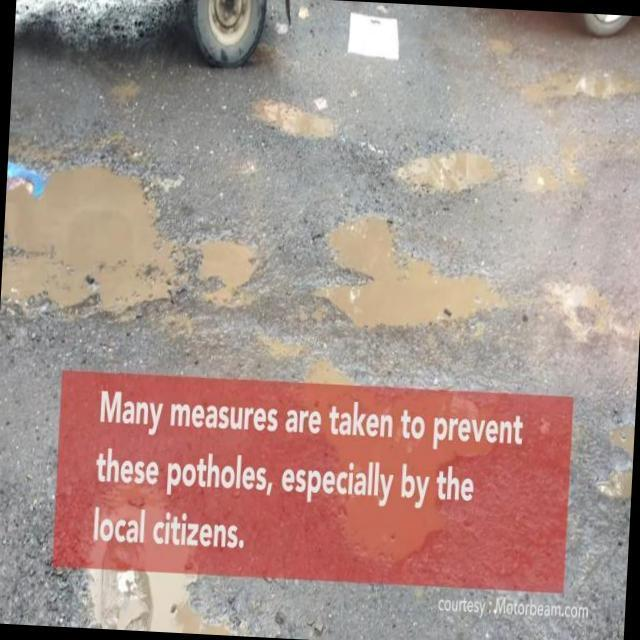Pothole: (11, 162, 255, 311), (311, 214, 496, 334), (398, 154, 500, 198)
